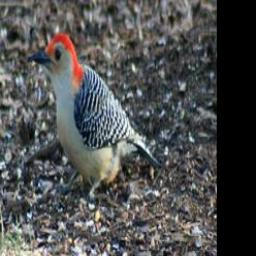Woodpecker: (29, 34, 156, 213)
